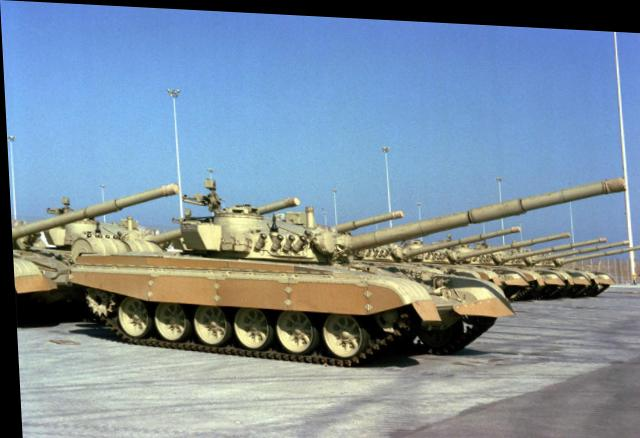other: (8, 194, 165, 312)
tank: (50, 180, 432, 372), (318, 185, 640, 264), (454, 246, 627, 305)
